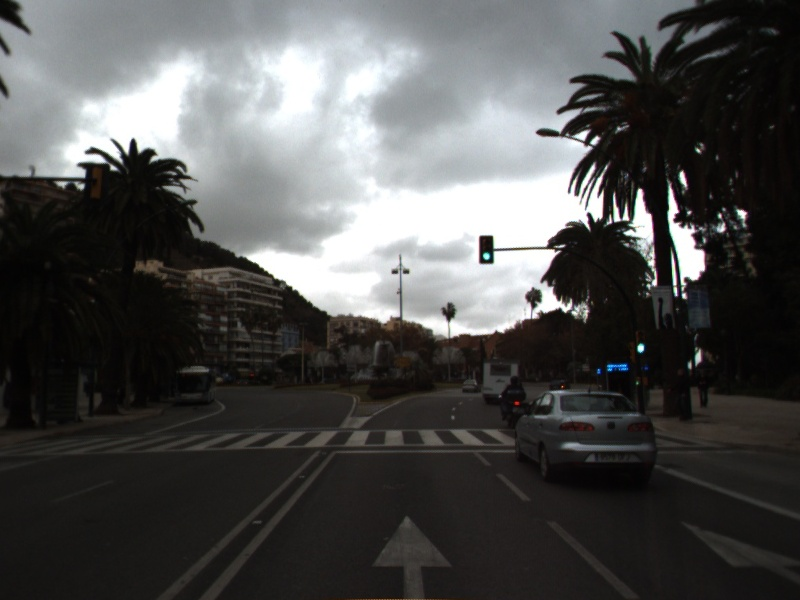STRAIGHT: (675, 516, 800, 585), (367, 511, 458, 600)
